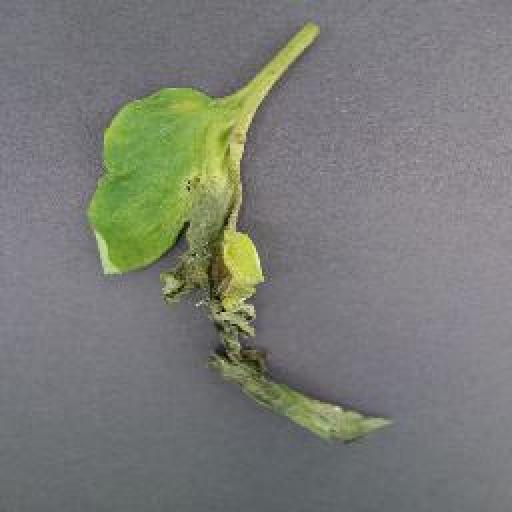disease_tomato: (86, 83, 396, 445)
